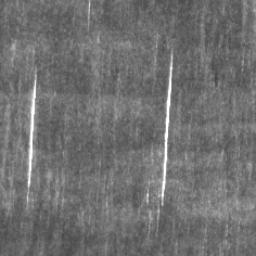Bright scratch: (162, 68, 171, 202), (26, 85, 36, 195), (88, 2, 91, 25)
